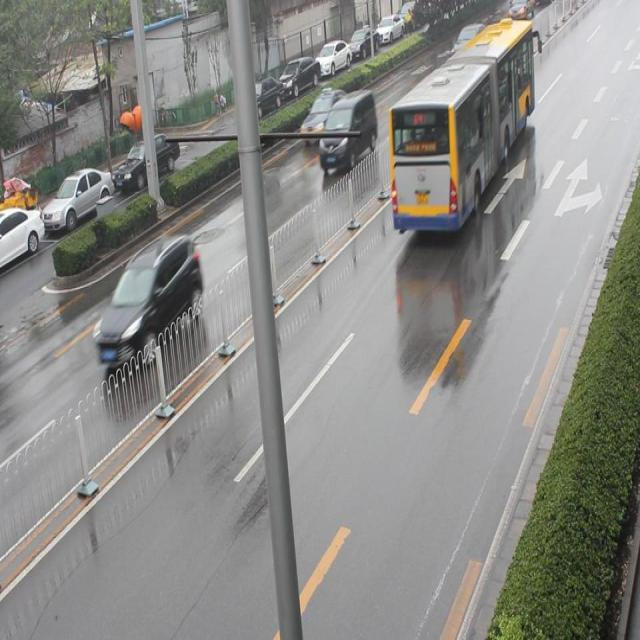car: (98, 238, 206, 372), (300, 83, 349, 139), (451, 20, 484, 64)
truck: (318, 94, 375, 172)
van: (388, 20, 536, 232)
